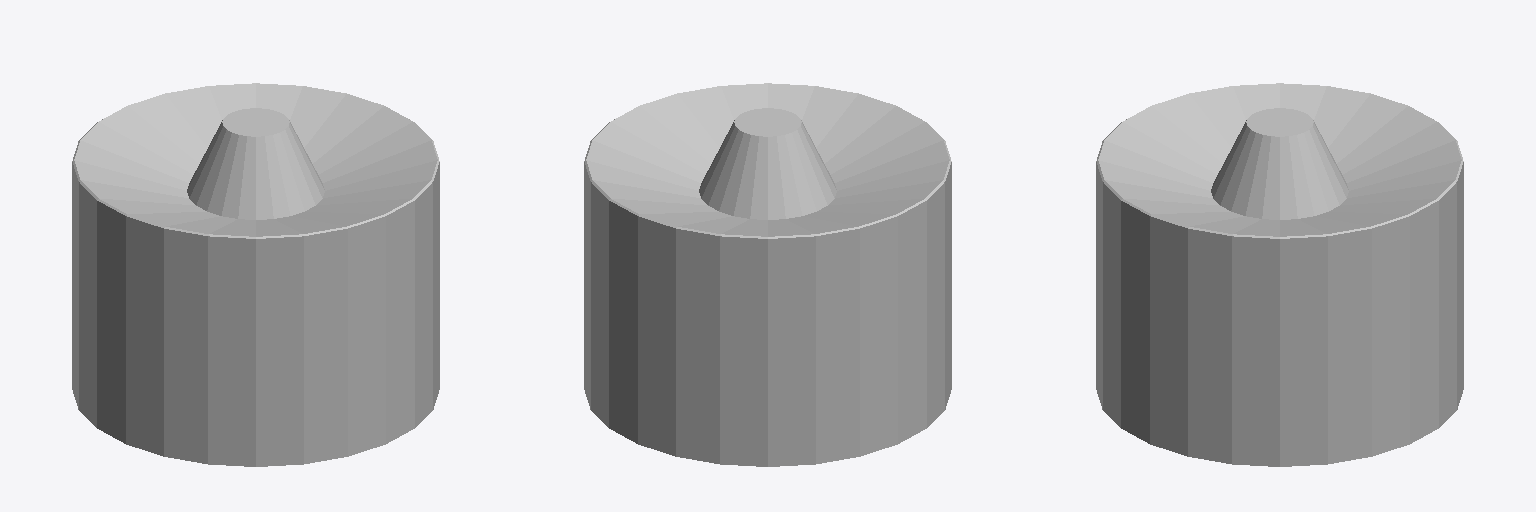
3 renders of one model, left to right at view 1: azimuth 30°, elevation 25°; view 2: azimuth 150°, elevation 25°; view 3: azimuth 270°, elevation 25°, orthographic.
Parts seen in each view (by area): view 1: Body_Cylinder.002; view 2: Body_Cylinder.002; view 3: Body_Cylinder.002.
Part boxes in pixels (x1,y1,x2,y2): Body_Cylinder.002: (72,83,439,466); Body_Cylinder.002: (584,83,951,466); Body_Cylinder.002: (1096,83,1463,466).
Bounding box in the file's own units: 2.08 × 1.67 × 2.08.